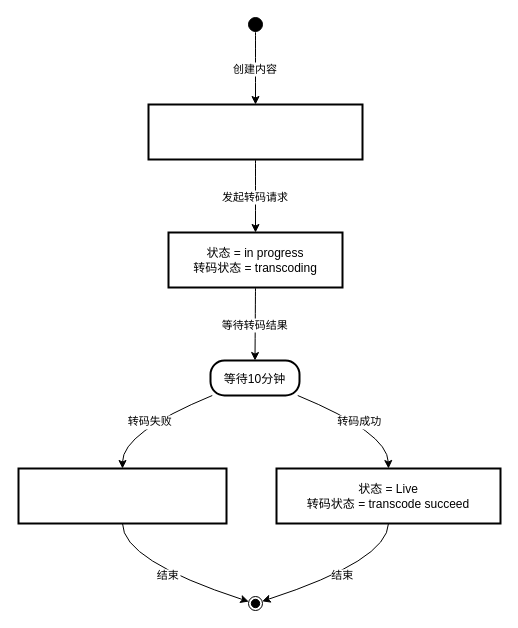
Image size: 518x628. Some labels were removed from this diagram. The centre of each missing label's shape, as x and y in pixels:
"状态 = in progress 转码状态 = To be transcoded" goes at point 255,131.
"状态 = in progress 转码状态 = transcode failed" goes at point 122,495.
